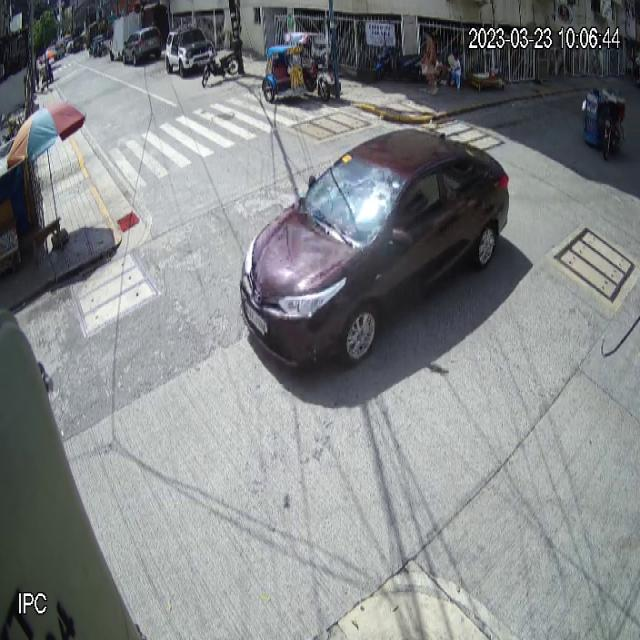Car: (240, 128, 510, 374)
Tricycle: (262, 32, 330, 104), (581, 86, 627, 161)
